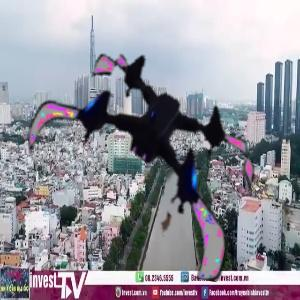drone: (24, 28, 264, 268)
